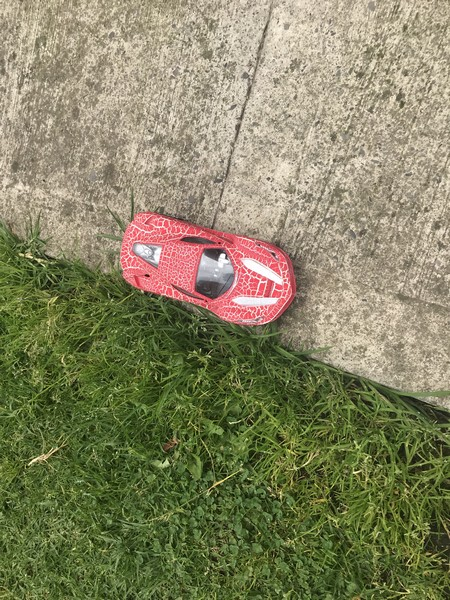RC: (119, 211, 299, 329)
